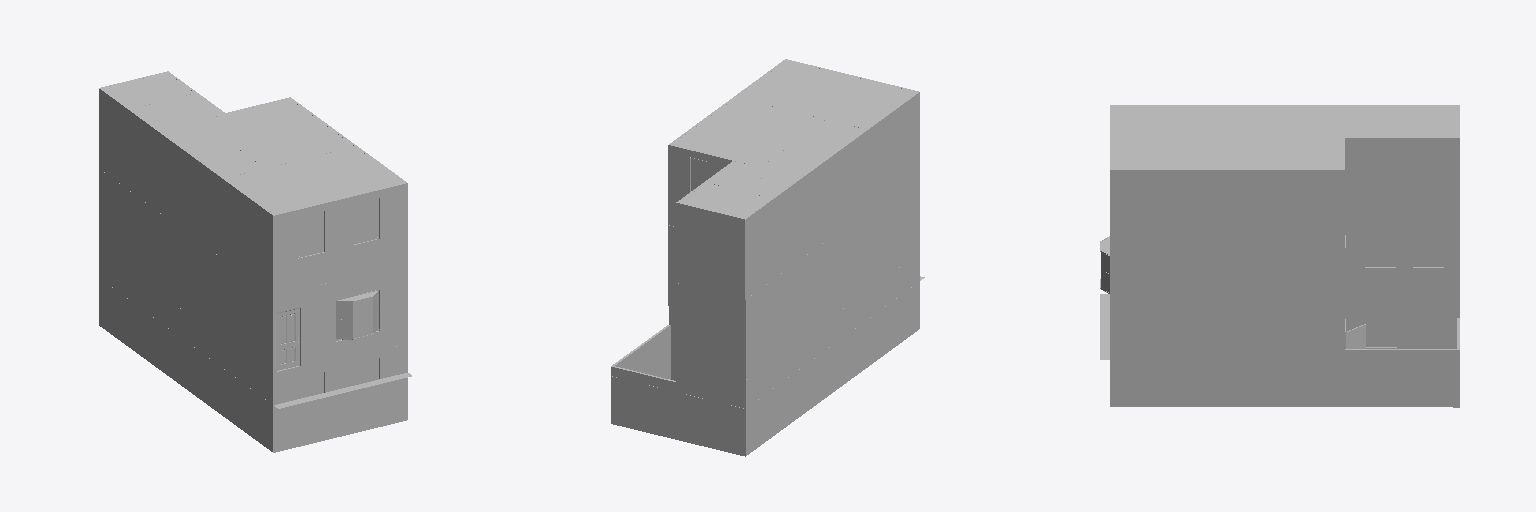
The model's file is multipleFloorsPlan.obj.
The picture shows the model from 3 angles: view 1: azimuth 30°, elevation 25°; view 2: azimuth 150°, elevation 25°; view 3: azimuth 270°, elevation 25°; orthographic projection.
Parts seen in each view (by area): view 1: ground_1, wall_14_75, wall_18_99, wall_27_153, wall_8_42, room_4_538, room_3_536, wall_15_81, wall_30_171, wall_34_195, wall_38_219, room_10_549 (+11 smaller); view 2: ground_1, wall_14_75, wall_27_153, room_4_538, wall_1_3, wall_16_87, room_3_536, wall_38_219, wall_15_81, wall_30_171, room_10_549, wall_28_159 (+10 smaller); view 3: wall_48_279, wall_22_123, ground_1, wall_9_48, wall_32_183, wall_42_243, wall_2_9, room_4_538, wall_49_285, room_3_536, wall_23_129, wall_24_135 (+11 smaller).
Part boxes in pixels (x1,y1,x2,y2): ground_1: (99, 278, 411, 452); wall_14_75: (157, 211, 272, 375); wall_18_99: (273, 183, 407, 295); wall_27_153: (128, 110, 212, 251); wall_8_42: (303, 263, 407, 368); room_4_538: (225, 147, 403, 213); room_3_536: (203, 99, 352, 166); wall_15_81: (99, 169, 156, 290); wall_30_171: (222, 179, 272, 294); wall_34_195: (273, 344, 407, 451); wall_38_219: (128, 270, 212, 408); room_10_549: (131, 102, 263, 176); ground_1: (611, 276, 924, 456); wall_14_75: (803, 173, 919, 337); wall_27_153: (774, 137, 858, 278); room_4_538: (737, 61, 915, 127); wall_1_3: (676, 283, 745, 379); wall_16_87: (676, 203, 744, 299); room_3_536: (672, 98, 822, 165); wall_38_219: (774, 298, 858, 432); wall_15_81: (746, 258, 802, 378); wall_30_171: (869, 92, 919, 208); room_10_549: (745, 120, 865, 196); wall_28_159: (745, 199, 773, 299); wall_48_279: (1212, 250, 1344, 330); wall_22_123: (1213, 170, 1344, 249); ground_1: (1100, 294, 1459, 407); wall_9_48: (1110, 250, 1211, 330); wall_32_183: (1110, 170, 1212, 249); wall_42_243: (1110, 331, 1212, 406); wall_2_9: (1345, 219, 1459, 298); room_4_538: (1113, 106, 1211, 168); wall_49_285: (1230, 331, 1343, 406); room_3_536: (1214, 126, 1342, 168); wall_23_129: (1402, 138, 1459, 218); wall_24_135: (1345, 138, 1401, 218).
Size of the model in its own units: 449 by 756 by 1038.